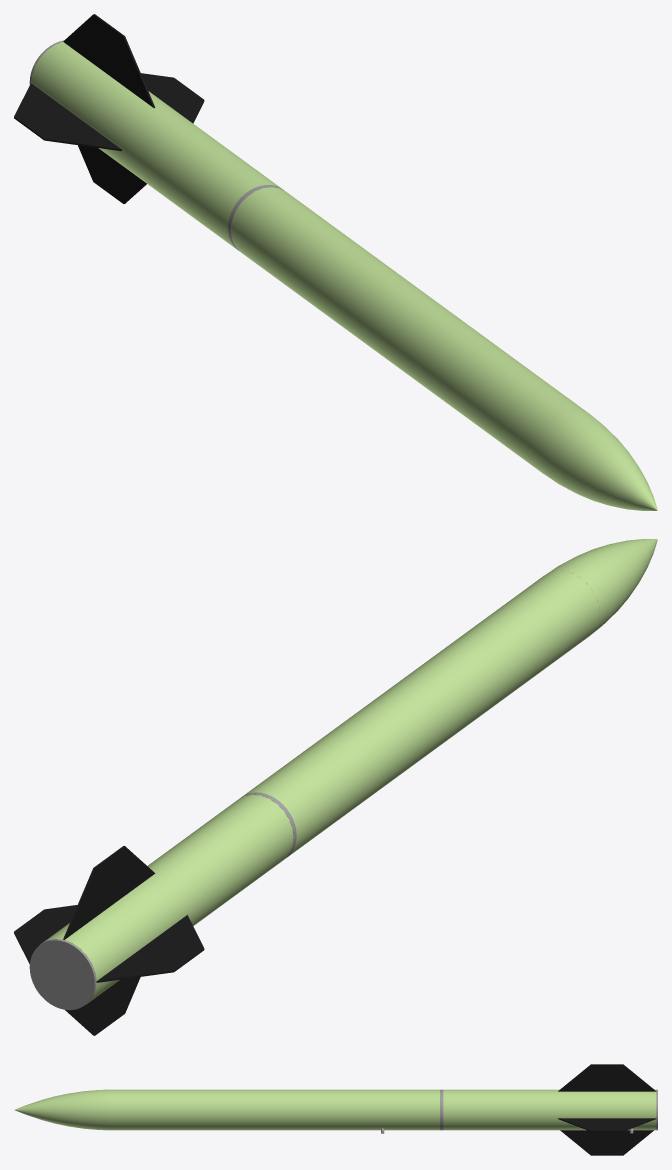
File: rocket.obj
3 renders of one model, top to bottom at view 1: azimuth 30°, elevation 25°; view 2: azimuth 150°, elevation 25°; view 3: azimuth 270°, elevation 25°, orthographic. The views are drawn at different scales.
Parts seen in each view (by area): view 1: Gövde3, Gövde1:1, Gövde2, Gövde8, Gövde7, Gövde6, Gövde5; view 2: Gövde3, Gövde1:1, Gövde2, Gövde4, Gövde8, Gövde7, Gövde6, Gövde5; view 3: Gövde3, Gövde1:1, Gövde2, Gövde8, Gövde6, Gövde5, Gövde2:1.
Boxes of the visible parts, x1,y1,x2,y2 form: Gövde3: (231,187,589,472); Gövde1:1: (31,42,280,248); Gövde2: (534,409,657,510); Gövde8: (63,14,155,107); Gövde7: (14,83,121,151); Gövde6: (78,145,146,203); Gövde5: (141,73,204,123); Gövde3: (244,570,599,856); Gövde1:1: (40,794,293,1004); Gövde2: (546,539,657,634); Gövde4: (29,939,96,1010); Gövde8: (63,846,155,939); Gövde7: (96,915,204,982); Gövde6: (65,977,140,1035); Gövde5: (14,905,77,964); Gövde3: (112,1089,439,1130); Gövde1:1: (443,1089,656,1130); Gövde2: (14,1089,112,1130); Gövde8: (558,1064,656,1091); Gövde6: (560,1130,653,1155); Gövde5: (558,1118,656,1131); Gövde2:1: (440,1089,443,1130).
Size of the model in its own units: 30.5 by 30.5 by 196.
